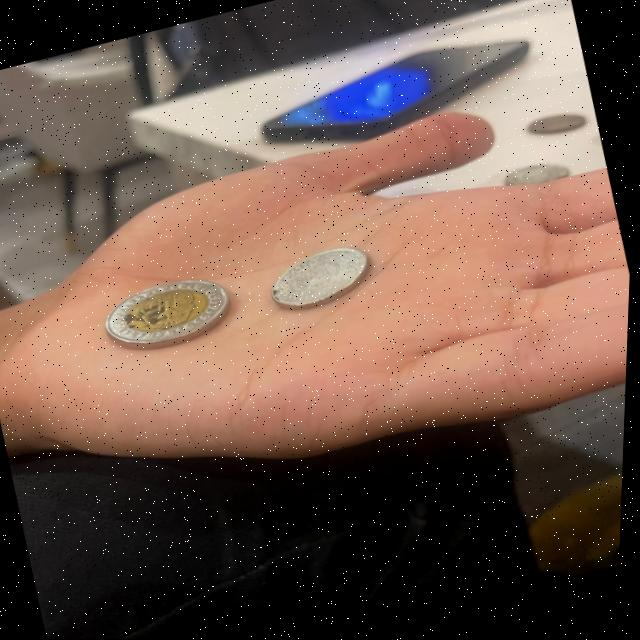One Pound: (102, 266, 245, 357)
quarter pound: (263, 235, 376, 313), (493, 155, 576, 204)
